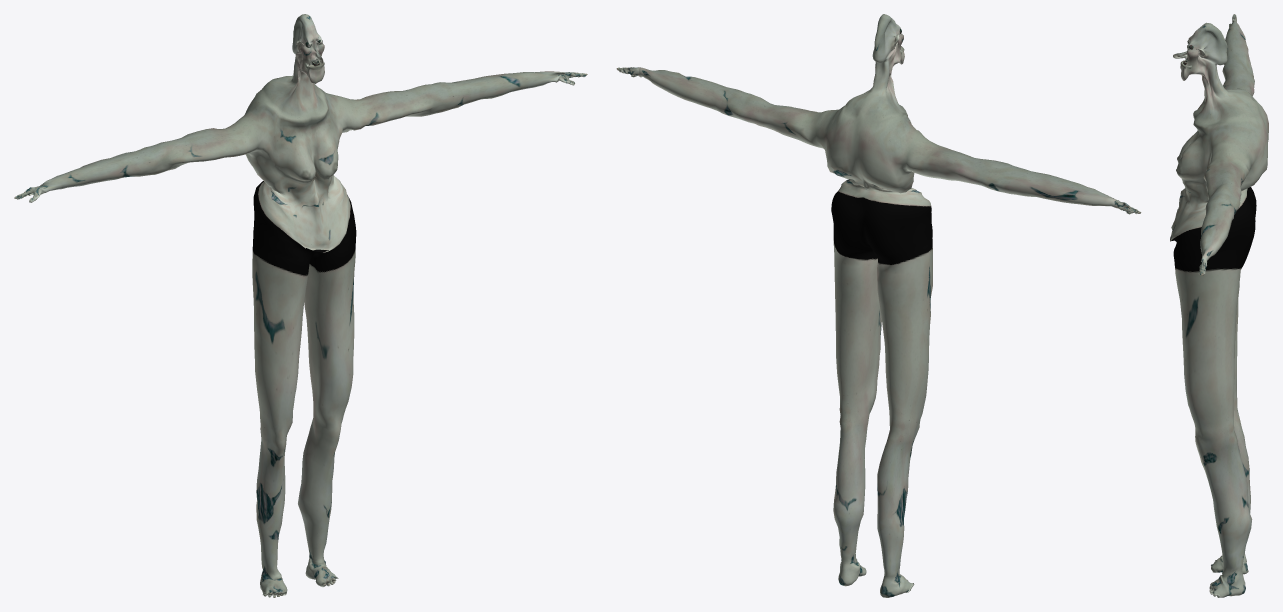
File: andross.obj
3 views of the same model, side by side, from view 1: azimuth 30°, elevation 25°; view 2: azimuth 150°, elevation 25°; view 3: azimuth 270°, elevation 25° (orthographic). The views are drawn at different scales.
Parts seen in each view (by area): view 1: Body; view 2: Body; view 3: Body.
Part boxes in pixels (box(x1,y1,x2,y2)): Body: box(14, 14, 587, 597); Body: box(616, 14, 1141, 597); Body: box(1170, 14, 1268, 597).
Bounding box in the file's own units: 184 × 184 × 29.4.
Materials: 1 (1 with a texture image).
